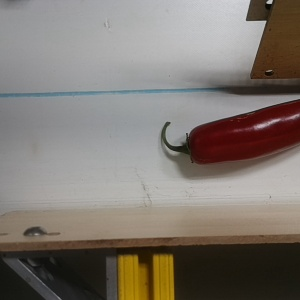Cut Point: (179, 125, 207, 166)
